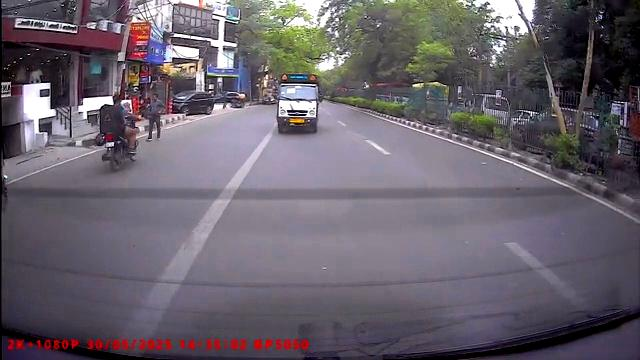motorcycle_with_helmet: (98, 87, 139, 174)
motorcycle_without_helmet: (98, 87, 139, 174)
